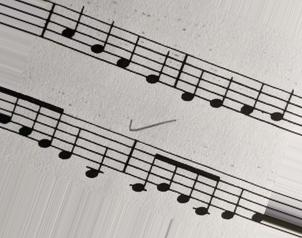note: (87, 15, 117, 67), (237, 73, 267, 124), (57, 3, 86, 55), (220, 171, 248, 222), (267, 84, 296, 132), (144, 39, 172, 87), (117, 27, 143, 77), (179, 51, 203, 103), (208, 62, 232, 112), (56, 113, 82, 159)
